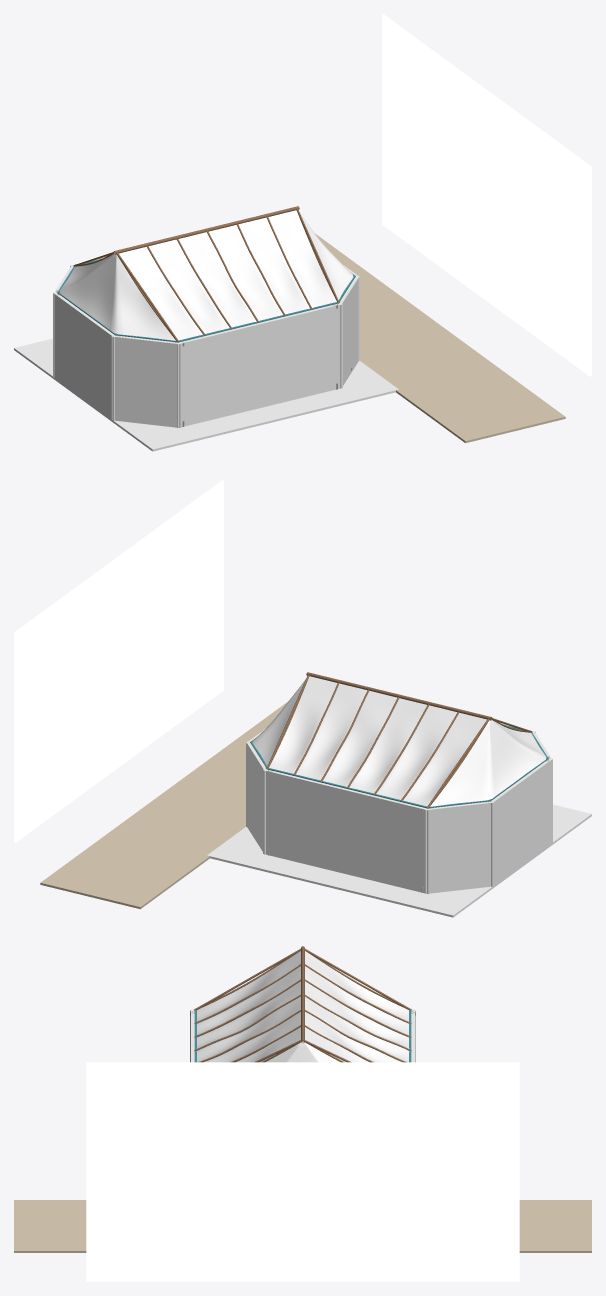
The model's file is room.glb.
3 renders of one model, top to bottom at view 1: azimuth 30°, elevation 25°; view 2: azimuth 150°, elevation 25°; view 3: azimuth 270°, elevation 25°, orthographic. The views are drawn at different scales.
Visible parts, largest first — view 1: Backdrop, TentSouth, OutsideGround, Wall_5, Floor, Wall_4, Wall_3, TentWest, Wall_6, TentEast, RidgeBeam; view 2: Backdrop, TentNorth, OutsideGround, Wall_1, Floor, Wall_2, Wall_3, TentWest, Wall_0, TentEast, RidgeBeam; view 3: Backdrop, OutsideGround, TentNorth, TentSouth, TentEast.
Part boxes in pixels (x1=…): Backdrop: x1=382, y1=14, x2=591, y2=376; TentSouth: x1=119, y1=210, x2=336, y2=340; OutsideGround: x1=315, y1=233, x2=565, y2=443; Wall_5: x1=176, y1=303, x2=342, y2=427; Floor: x1=14, y1=338, x2=398, y2=451; Wall_4: x1=111, y1=335, x2=180, y2=427; Wall_3: x1=53, y1=292, x2=116, y2=420; TentWest: x1=59, y1=254, x2=175, y2=340; Wall_6: x1=338, y1=276, x2=359, y2=388; TentEast: x1=300, y1=214, x2=353, y2=299; RidgeBeam: x1=113, y1=206, x2=299, y2=254; Backdrop: x1=14, y1=480, x2=223, y2=842; TentNorth: x1=269, y1=676, x2=486, y2=806; OutsideGround: x1=40, y1=701, x2=288, y2=909; Wall_1: x1=263, y1=769, x2=429, y2=893; Floor: x1=207, y1=804, x2=591, y2=917; Wall_2: x1=425, y1=801, x2=494, y2=893; Wall_3: x1=489, y1=758, x2=552, y2=886; TentWest: x1=430, y1=720, x2=546, y2=806; Wall_0: x1=246, y1=742, x2=267, y2=854; TentEast: x1=252, y1=679, x2=305, y2=766; RidgeBeam: x1=306, y1=672, x2=492, y2=720; Backdrop: x1=86, y1=1062, x2=519, y2=1281; OutsideGround: x1=14, y1=1200, x2=591, y2=1252; TentNorth: x1=305, y1=951, x2=409, y2=1062; TentSouth: x1=196, y1=951, x2=300, y2=1062; TentEast: x1=265, y1=1041, x2=340, y2=1062.
Size of the model in its own units: 20.24 by 10.11 by 24.
